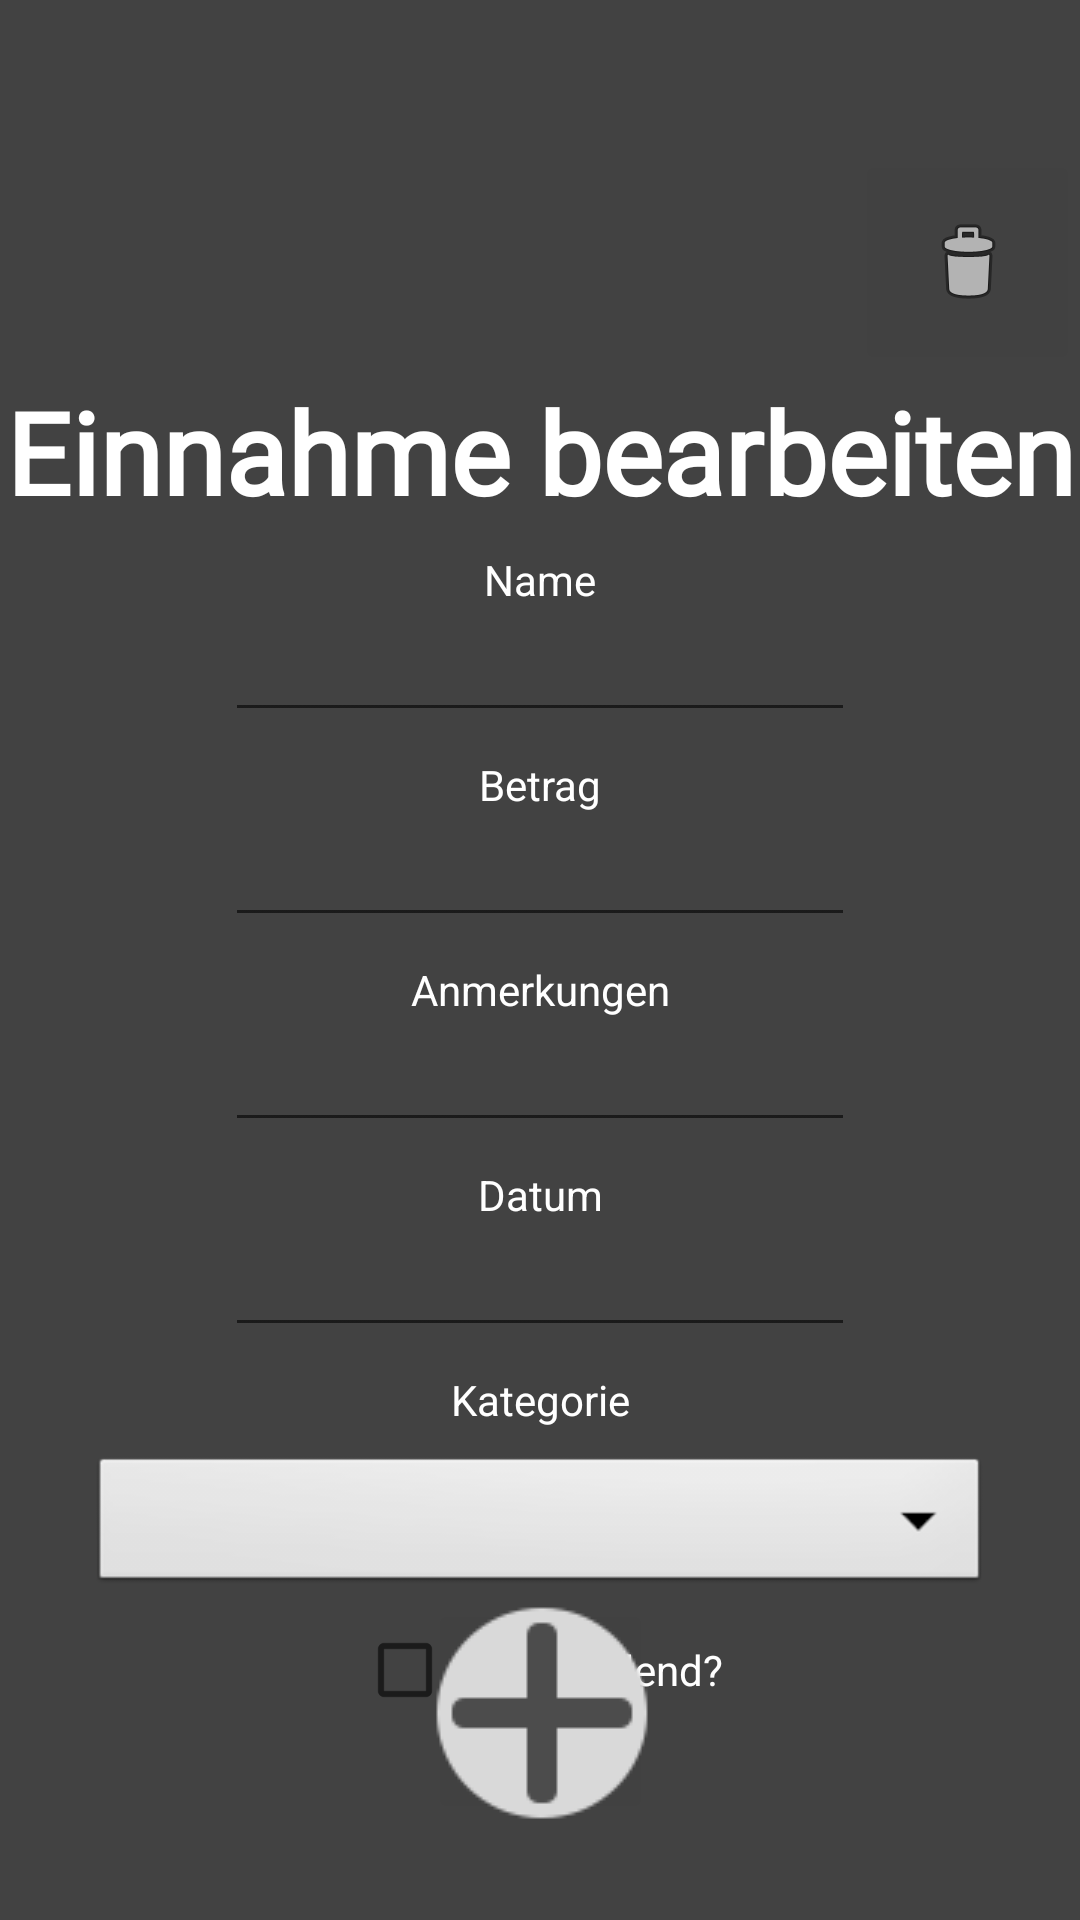

Where to tap for icons on this 1080w x 1920h app screen, as (x,y):
delete: (968,261)
plus: (544,1713)
